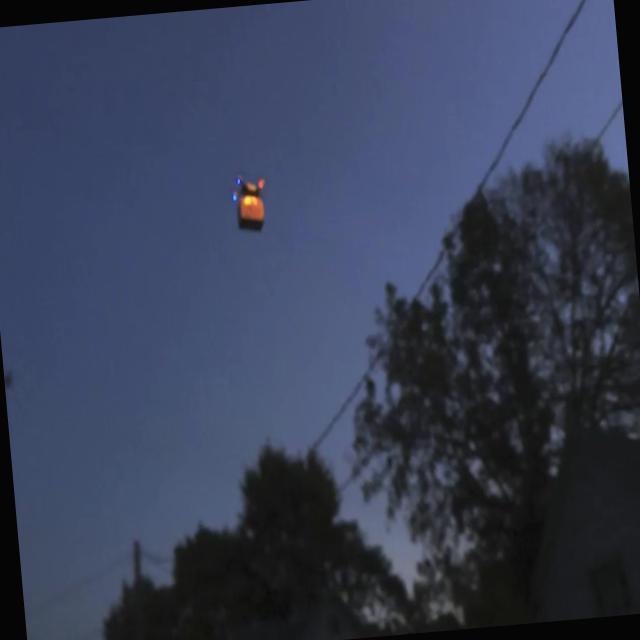drone: (228, 169, 274, 237)
